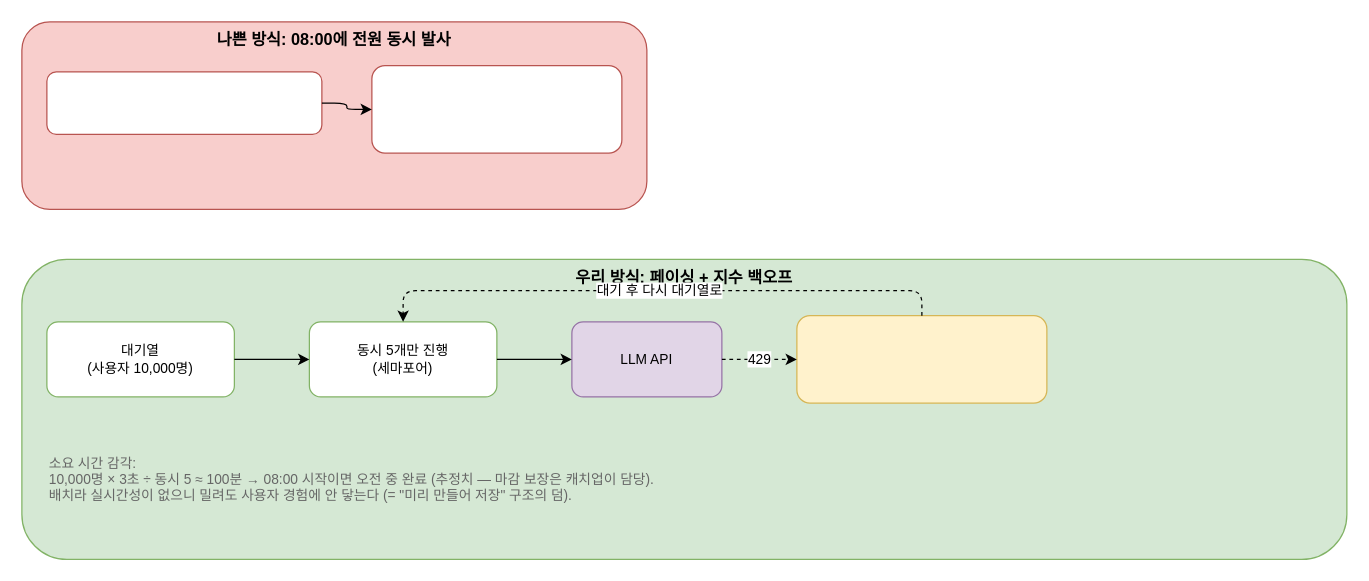
This 1369x581 diagram has some shape labels left out. The centre of each missing label's shape, as x and y in pixels:
"429 받으면: retry-after 우선, 없으면 1초 → 2초 → 4초 + jitter (SDK 자체 재시도와 중복 주의)" goes at point (921, 358).
"분당 요청/토큰 상한 초과 → 429 Too Many Requests 폭탄 → 즉시 재시도하면 더 악화" goes at point (496, 108).
"사용자 10,000명 → 동시에 10,000 요청" goes at point (184, 102).
